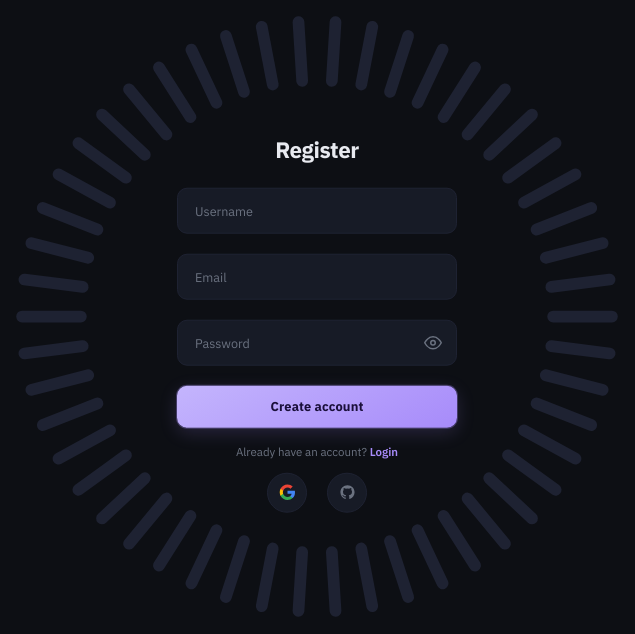
Test: AuthPage › surfaces DRF field errors (no detail) on failed register
Click the button "Create account": (317, 406) [177,385,457,427]
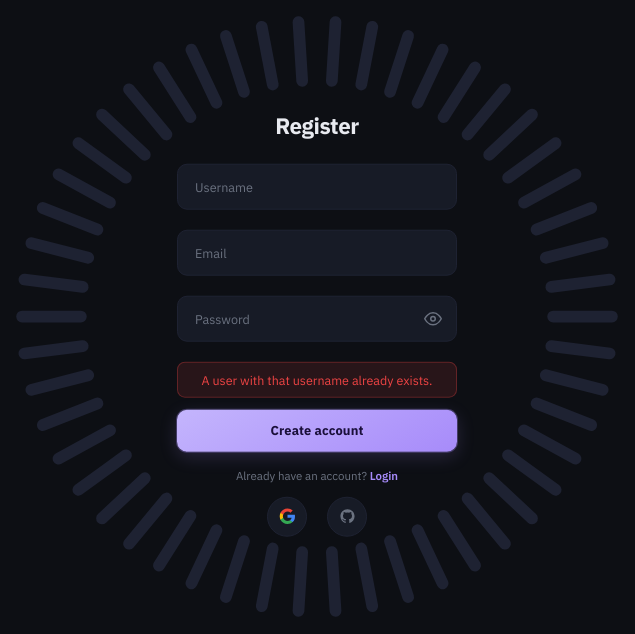
expect the text "A user with that username already exists." is shown: met, box [177,361,457,397]
